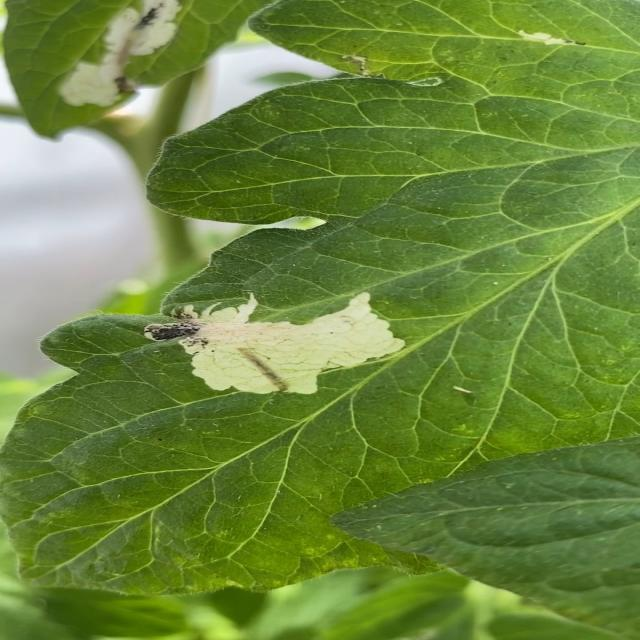Larvae: (239, 348, 289, 391)
